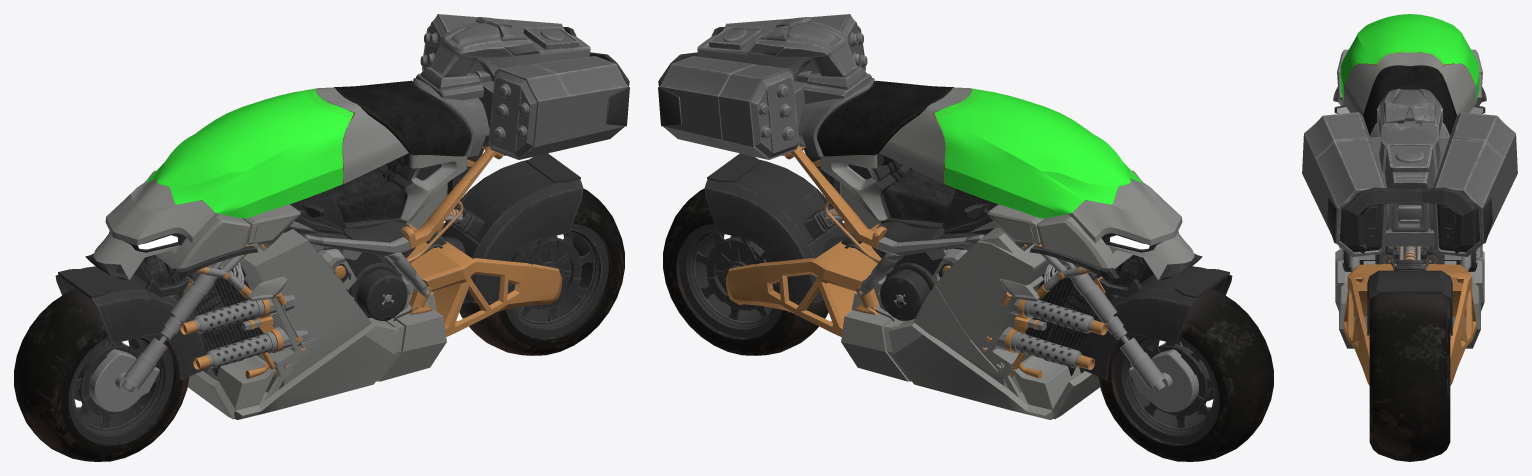
File: Motorbike_ LOD_0.fbx
The picture shows the model from 3 angles, left to right: view 1: azimuth 30°, elevation 25°; view 2: azimuth 150°, elevation 25°; view 3: azimuth 270°, elevation 25°; orthographic projection.
Parts seen in each view (by area): view 1: SM_ Bike_LOD_0_Body, SM_ Bike_LOD_0_FW, SM_ Bike_LOD_0_BW; view 2: SM_ Bike_LOD_0_Body, SM_ Bike_LOD_0_FW, SM_ Bike_LOD_0_BW; view 3: SM_ Bike_LOD_0_Body, SM_ Bike_LOD_0_BW.
Boxes of the visible parts, x1,y1,x2,y2 form: SM_ Bike_LOD_0_Body: (55, 14, 629, 419); SM_ Bike_LOD_0_FW: (14, 288, 189, 461); SM_ Bike_LOD_0_BW: (459, 188, 624, 355); SM_ Bike_LOD_0_Body: (658, 14, 1232, 419); SM_ Bike_LOD_0_FW: (1098, 288, 1273, 461); SM_ Bike_LOD_0_BW: (663, 188, 828, 355); SM_ Bike_LOD_0_Body: (1302, 14, 1517, 385); SM_ Bike_LOD_0_BW: (1369, 294, 1450, 461).
Size of the model in its own units: 145 by 453 by 244.
3 materials, 2 textured.
